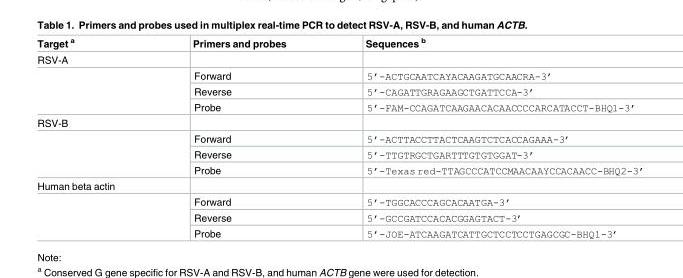table: (36, 36, 643, 239)
table column: (325, 36, 643, 239), (153, 36, 325, 239), (36, 36, 153, 239)
table column header: (36, 36, 643, 51)
table projected row header: (36, 51, 643, 67), (36, 115, 643, 130), (36, 178, 643, 193)
table row: (36, 193, 643, 210), (36, 51, 643, 67), (36, 67, 643, 83), (36, 83, 643, 99), (36, 99, 643, 115), (36, 130, 643, 146), (36, 146, 643, 162), (36, 162, 643, 178), (36, 36, 643, 51), (36, 115, 643, 130), (36, 178, 643, 193), (36, 210, 643, 225), (36, 225, 643, 239)
